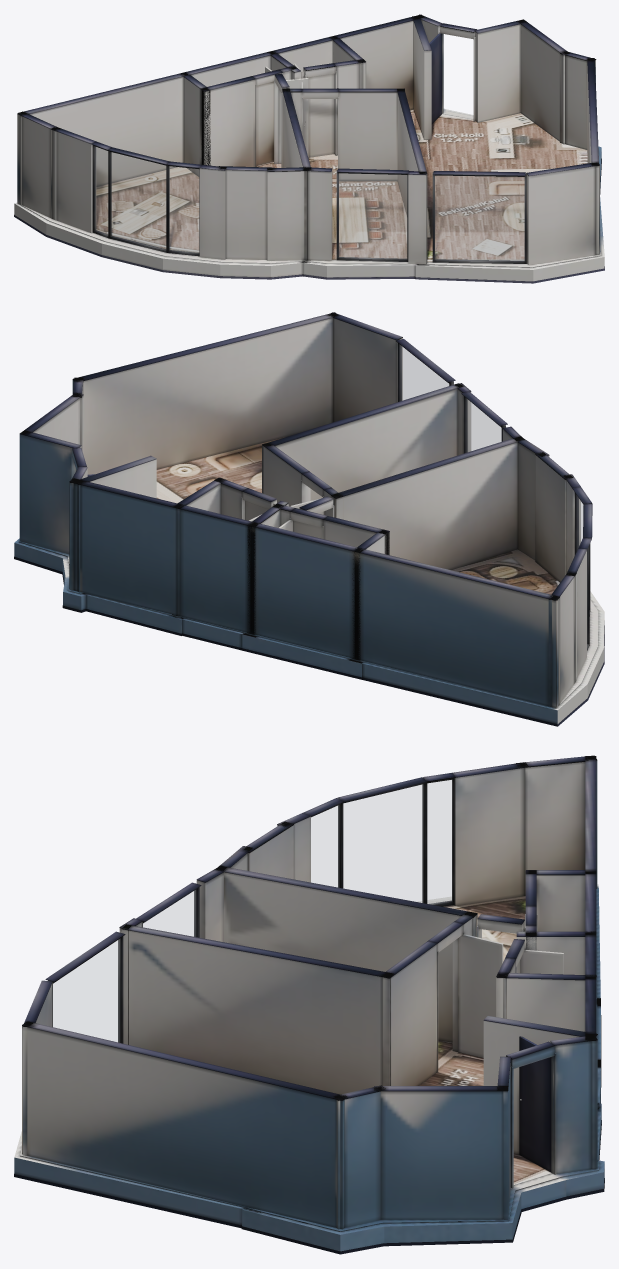
3 views of the same model, one above another, from view 1: azimuth 30°, elevation 25°; view 2: azimuth 150°, elevation 25°; view 3: azimuth 270°, elevation 25° (orthographic). The views are drawn at different scales.
Parts seen in each view (by area): view 1: plan, glass4_m, glass3_m, glass1_m, glass2_m, glass0_m; view 2: plan, glass4_m, glass3_m; view 3: plan, glass1_m, glass4_m, glass0_m, glass2_m, glass3_m.
Boxes of the visible parts, bbox=[...] form: plan: bbox=[14, 14, 604, 283]; glass4_m: bbox=[435, 176, 524, 260]; glass3_m: bbox=[339, 173, 406, 259]; glass1_m: bbox=[111, 152, 165, 249]; glass2_m: bbox=[169, 166, 198, 253]; glass0_m: bbox=[95, 147, 107, 234]; plan: bbox=[14, 312, 604, 726]; glass4_m: bbox=[400, 345, 448, 400]; glass3_m: bbox=[466, 399, 501, 452]; plan: bbox=[14, 755, 604, 1254]; glass1_m: bbox=[343, 784, 423, 902]; glass4_m: bbox=[53, 939, 119, 1042]; glass0_m: bbox=[427, 780, 452, 904]; glass2_m: bbox=[311, 805, 338, 887]; glass3_m: bbox=[143, 890, 195, 936].
Size of the model in its own units: 13.18 by 2.62 by 9.39.
Materials: 2 (1 with a texture image).
